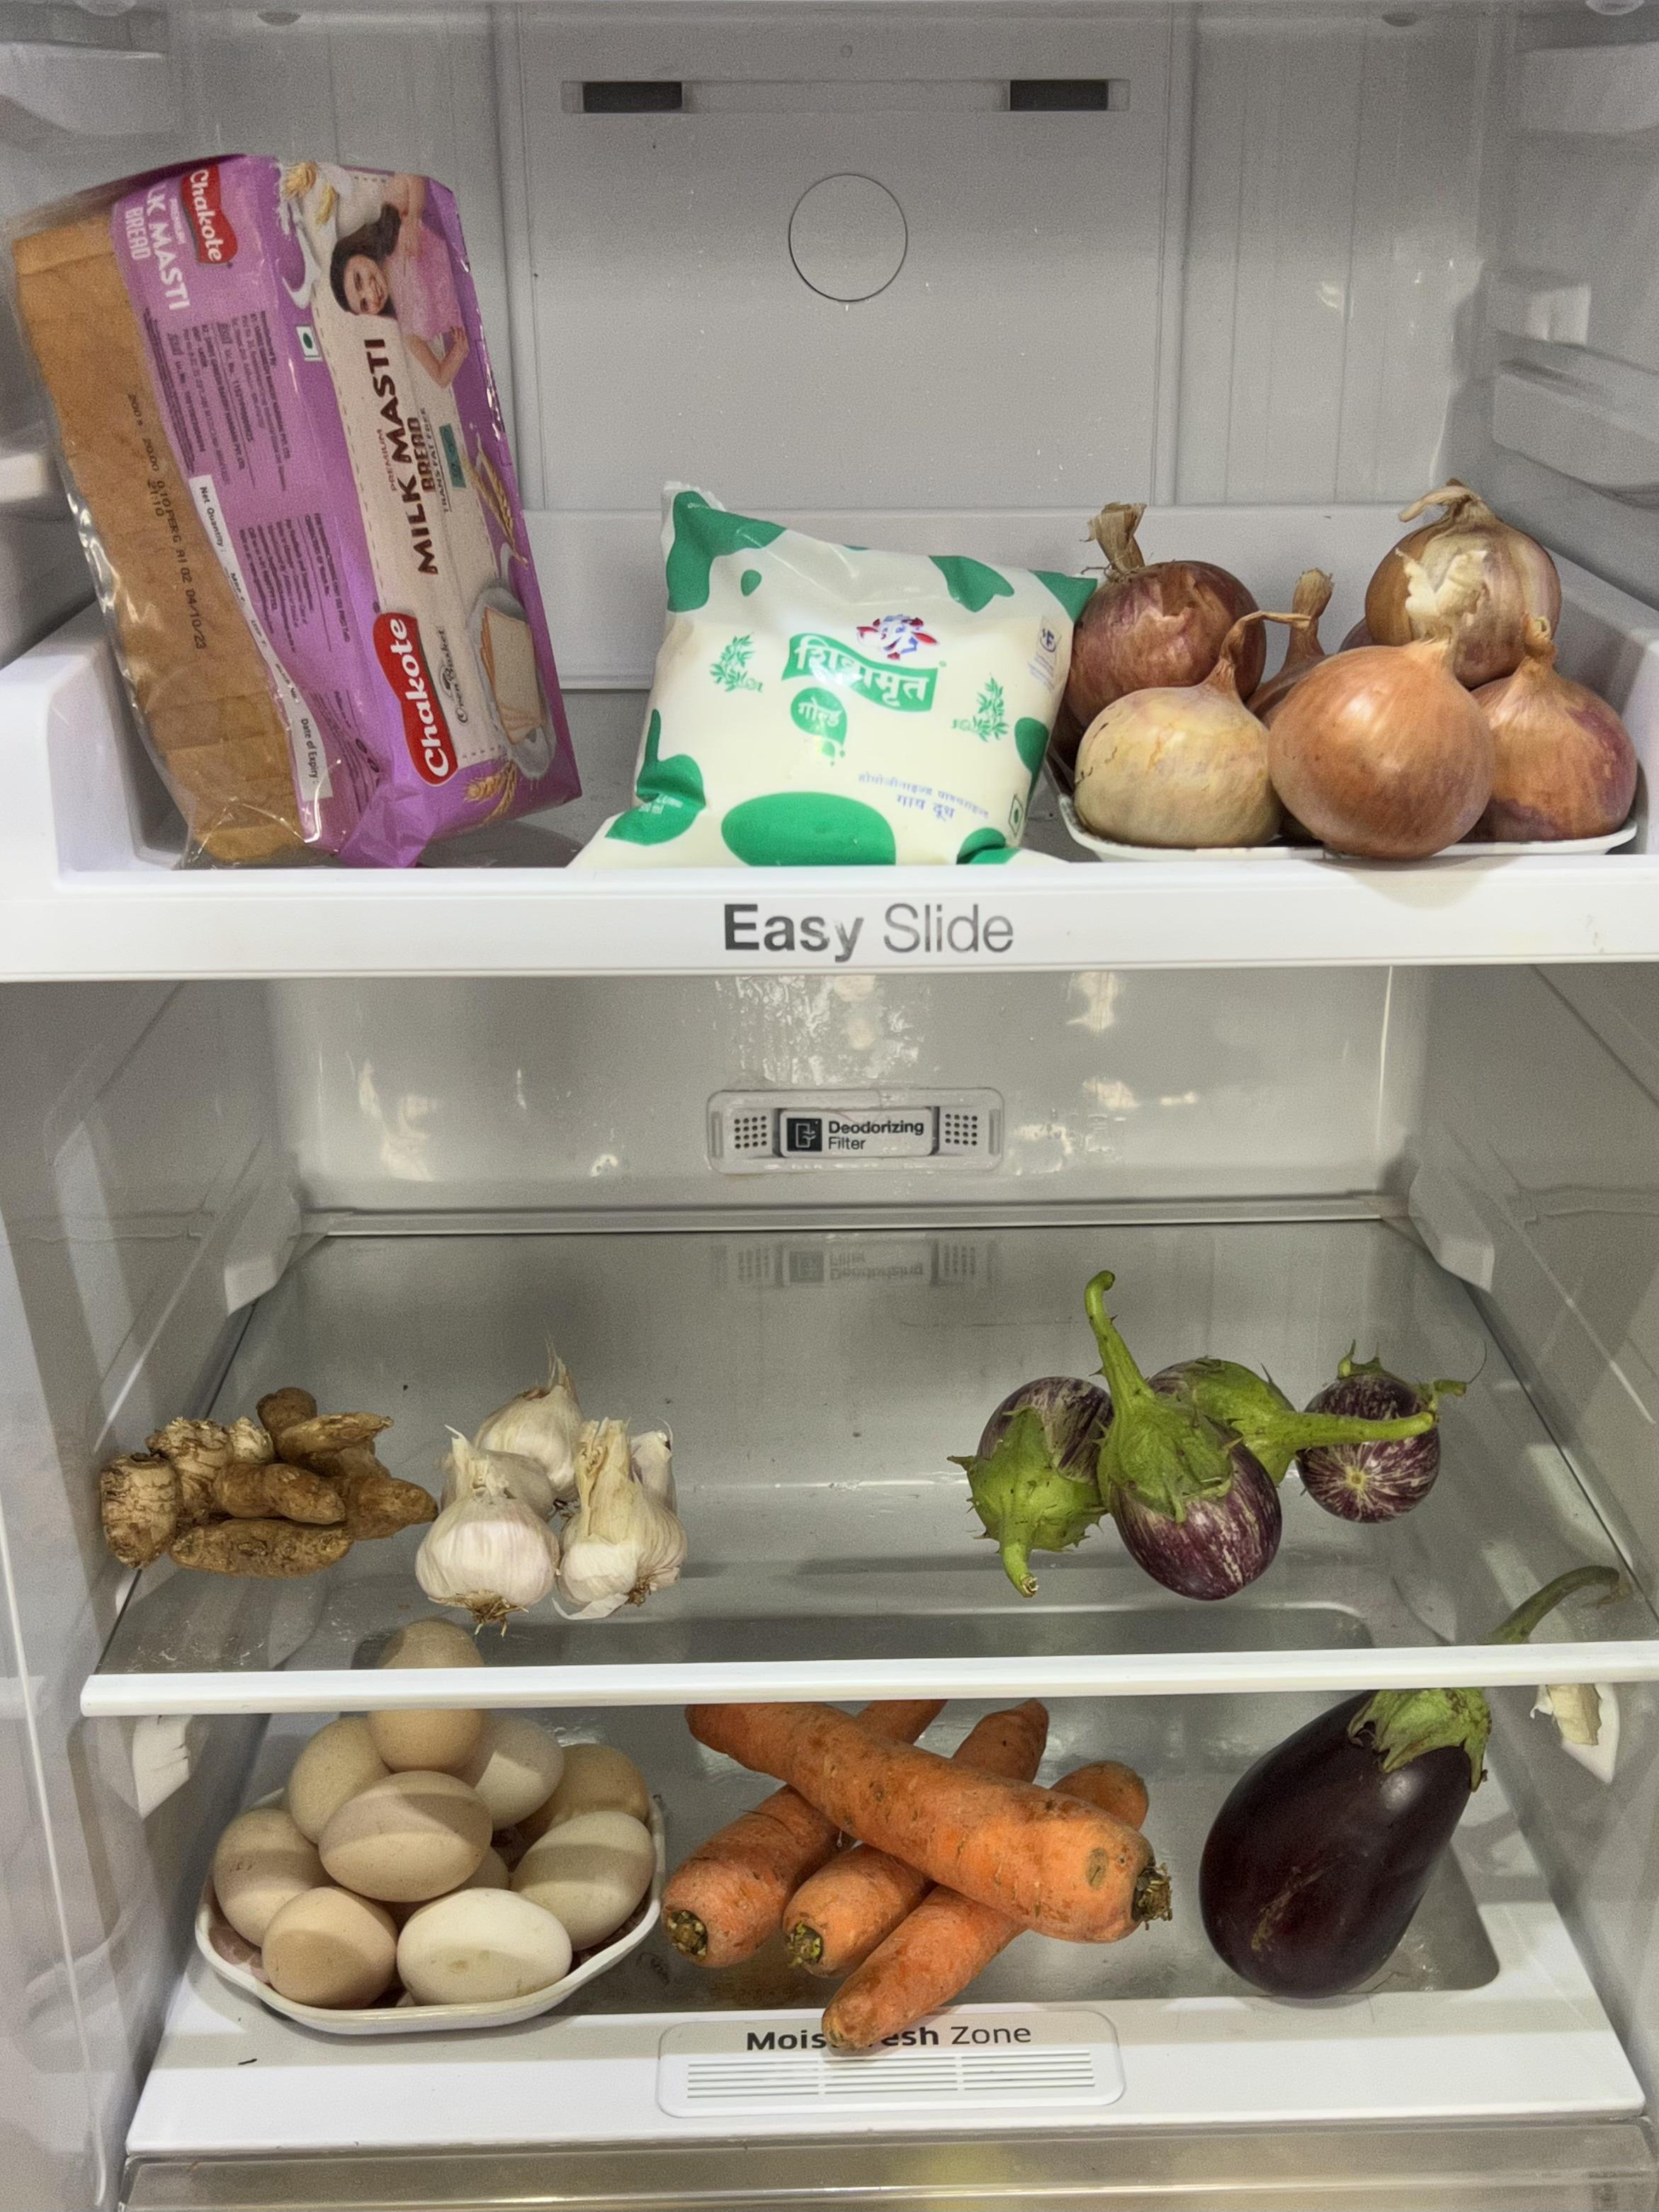bread: (2, 127, 582, 862)
bringal: (948, 1325, 1453, 1595), (1204, 1700, 1500, 2015)
carrots: (673, 1705, 1178, 2060)
egg: (207, 1693, 666, 2012)
garlic: (415, 1379, 702, 1632)
ginger: (85, 1379, 432, 1587)
milk: (615, 474, 1066, 873)
onion: (1070, 498, 1650, 871)
